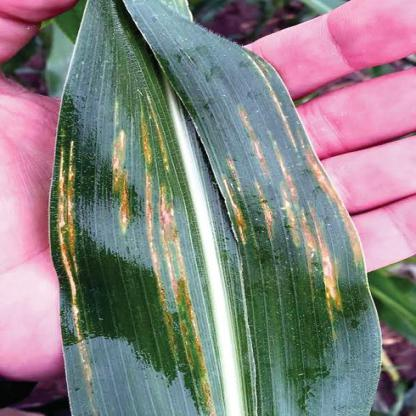corn leaf blight: (54, 1, 382, 415)
